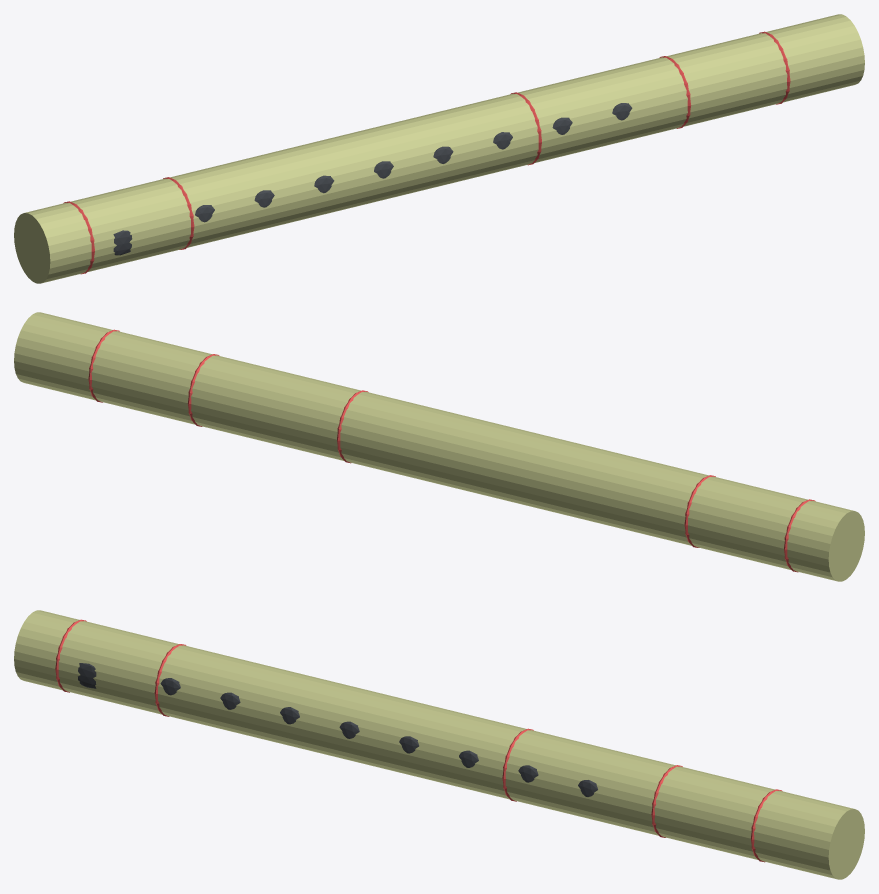
Rendered from gakki_shinobue.glb.
3 views of the same model, one above another, from view 1: azimuth 30°, elevation 25°; view 2: azimuth 150°, elevation 25°; view 3: azimuth 330°, elevation 25° (orthographic).
Parts seen in each view (by area): view 1: Bamboo horizontal shinobue or ryuteki; view 2: Bamboo horizontal shinobue or ryuteki; view 3: Bamboo horizontal shinobue or ryuteki.
Part boxes in pixels (x1,y1,x2,y2): Bamboo horizontal shinobue or ryuteki: [14, 14, 864, 283]; Bamboo horizontal shinobue or ryuteki: [14, 312, 864, 581]; Bamboo horizontal shinobue or ryuteki: [14, 610, 864, 879].
Bounding box in the file's own units: 1.95 × 0.1554 × 0.1554.
